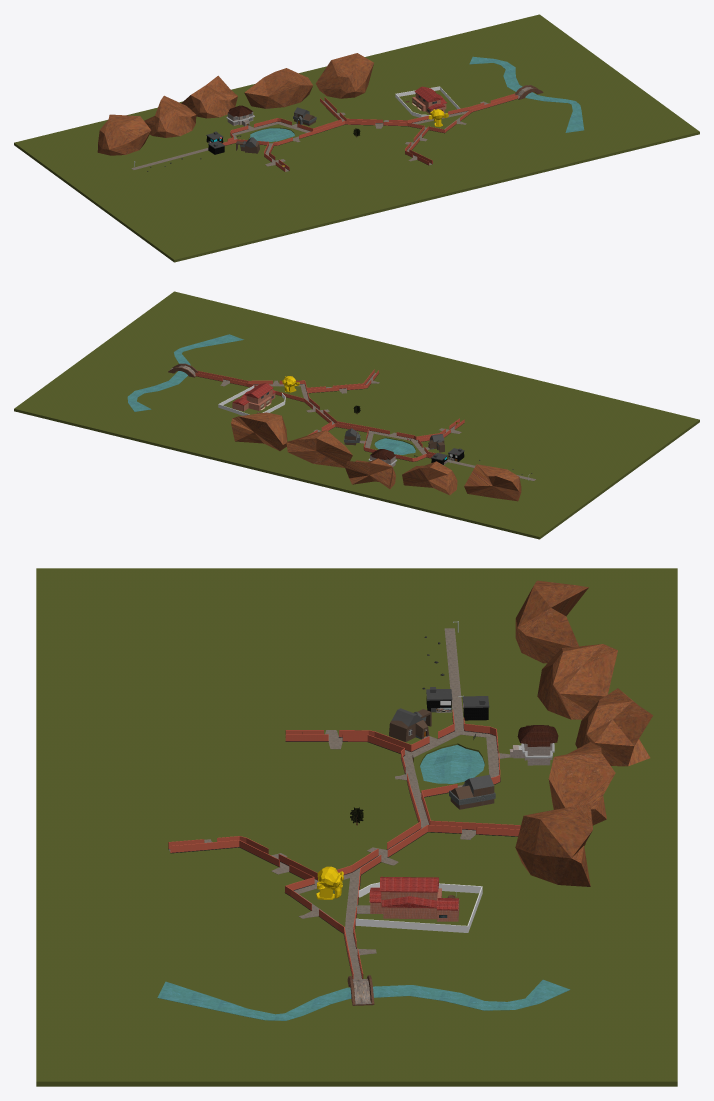
The model's file is Pueblo.fbx.
The picture shows the model from 3 angles, top to bottom: view 1: azimuth 30°, elevation 25°; view 2: azimuth 150°, elevation 25°; view 3: azimuth 270°, elevation 25°; orthographic projection. The views are drawn at different scales.
Visible parts, largest first — view 1: Terreno(SueloNoCaminable), muros, montana.004, montana.005, montana.001, montana.002, montana.003, camino, rio, casaReiko, Lago, casa.003; view 2: Terreno(SueloNoCaminable), muros, montana.005, montana.004, montana.001, montana.002, rio, montana.003, camino, casaReiko, Lago; view 3: Terreno(SueloNoCaminable), muros, camino, montana.005, rio, montana.002, montana.001, montana.003, montana.004, casaReiko, Lago, vallaparedReiko (+3 smaller).
Part boxes in pixels (x1=…): Terreno(SueloNoCaminable): x1=14, y1=14, x2=699, y2=262; muros: x1=222, y1=93, x2=518, y2=171; montana.004: x1=244, y1=68, x2=312, y2=108; montana.005: x1=315, y1=53, x2=373, y2=98; montana.001: x1=97, y1=114, x2=151, y2=155; montana.002: x1=144, y1=95, x2=196, y2=137; montana.003: x1=181, y1=75, x2=237, y2=118; camino: x1=131, y1=100, x2=488, y2=171; rio: x1=469, y1=56, x2=584, y2=132; casaReiko: x1=412, y1=86, x2=446, y2=114; Lago: x1=249, y1=128, x2=294, y2=141; casa.003: x1=226, y1=105, x2=254, y2=126; Terreno(SueloNoCaminable): x1=14, y1=291, x2=699, y2=539; muros: x1=195, y1=369, x2=464, y2=461; montana.005: x1=231, y1=412, x2=287, y2=450; montana.004: x1=286, y1=430, x2=352, y2=467; montana.001: x1=464, y1=464, x2=521, y2=501; montana.002: x1=402, y1=461, x2=457, y2=495; rio: x1=127, y1=334, x2=243, y2=411; montana.003: x1=345, y1=458, x2=395, y2=488; camino: x1=220, y1=373, x2=535, y2=481; casaReiko: x1=232, y1=383, x2=275, y2=411; Lago: x1=374, y1=438, x2=415, y2=454; Terreno(SueloNoCaminable): x1=36, y1=568, x2=677, y2=1086; muros: x1=168, y1=710, x2=520, y2=979; camino: x1=169, y1=628, x2=510, y2=979; montana.005: x1=515, y1=804, x2=592, y2=886; rio: x1=157, y1=979, x2=570, y2=1020; montana.002: x1=537, y1=644, x2=617, y2=719; montana.001: x1=515, y1=580, x2=588, y2=663; montana.003: x1=575, y1=688, x2=652, y2=766; montana.004: x1=548, y1=742, x2=615, y2=825; casaReiko: x1=369, y1=876, x2=459, y2=921; Lago: x1=420, y1=745, x2=484, y2=783; vallaparedReiko: x1=355, y1=882, x2=482, y2=932.
Bounding box in the file's own units: 632 × 37.58 × 334.
95 materials, 80 textured.
